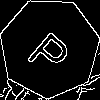P: (24, 23, 79, 79)
